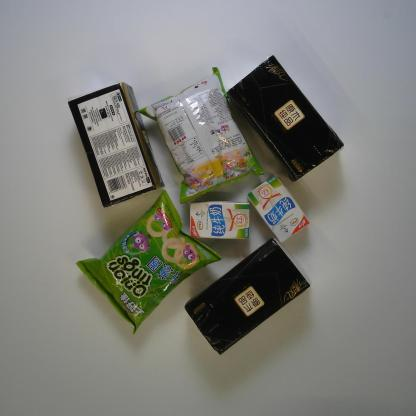Milk: (247, 174, 310, 244), (189, 200, 251, 240)
Puffed Food: (74, 189, 223, 335), (134, 65, 266, 204)
Tissue: (226, 54, 344, 182), (184, 237, 312, 355), (67, 82, 165, 209)
